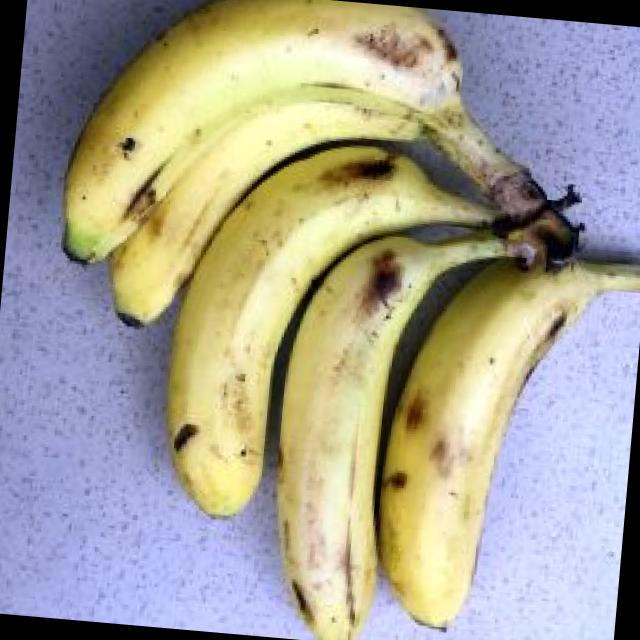banana: (54, 78, 586, 480)
